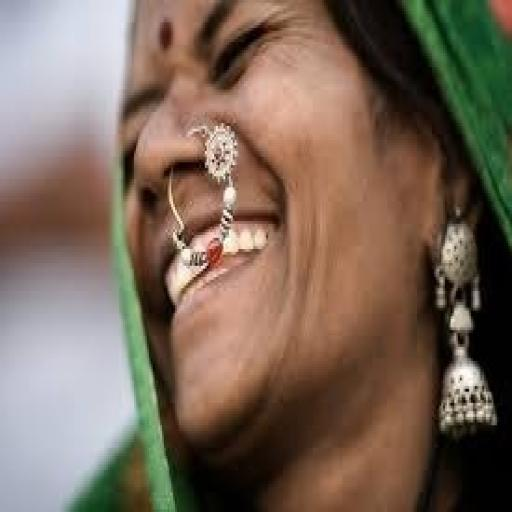laughing: (87, 0, 506, 506)
